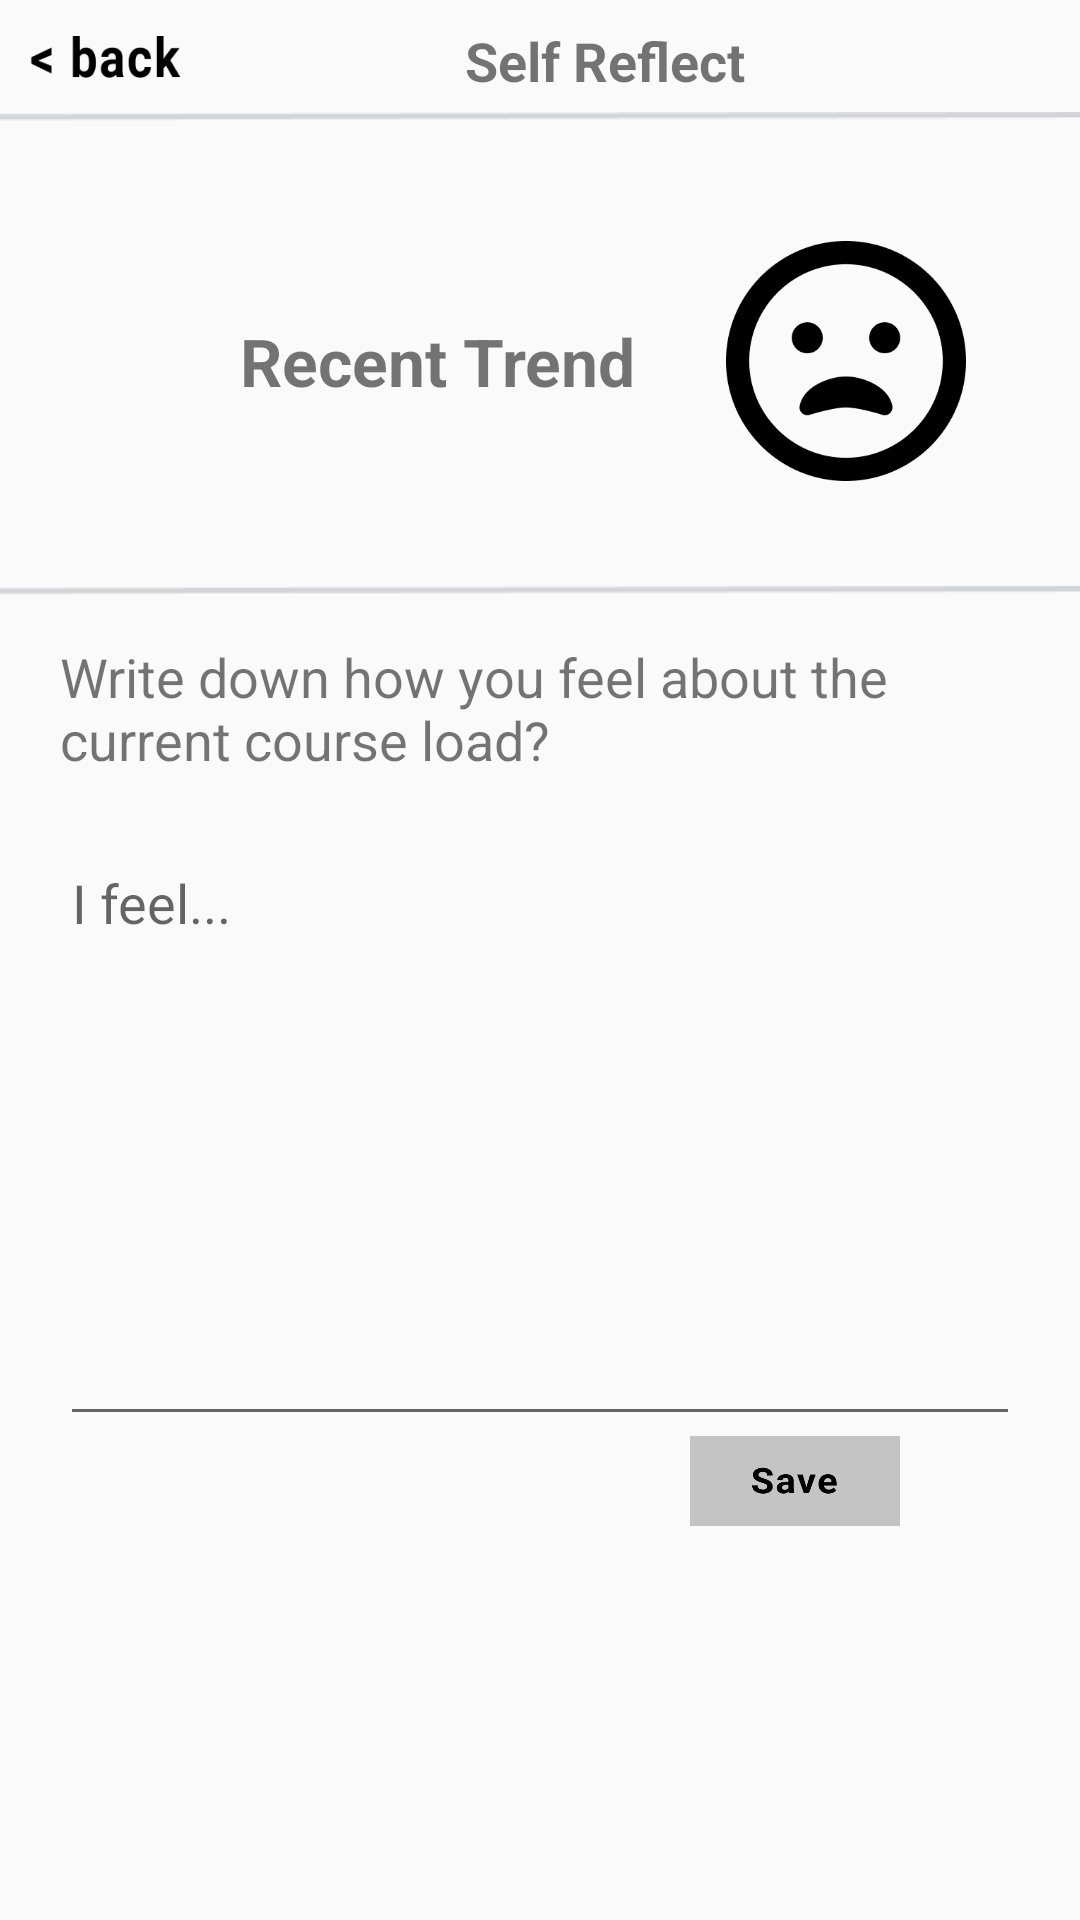

Where to tap for icons on this 1080*1920 app screen, as (x=x, y=y):
unhappy: (x=846, y=361)
